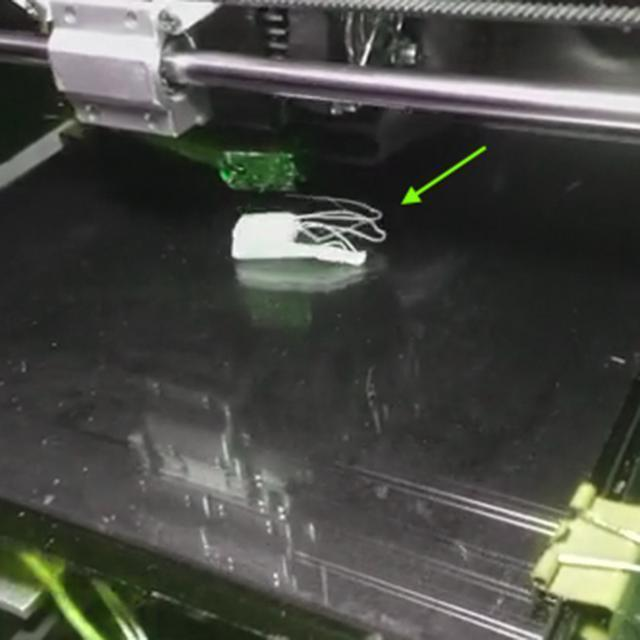spaghetti: (293, 194, 389, 253)
